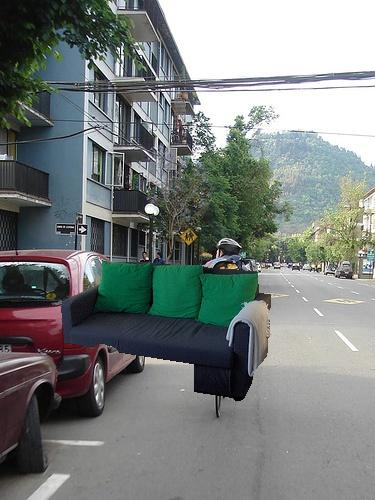tampered: (62, 261, 271, 401)
